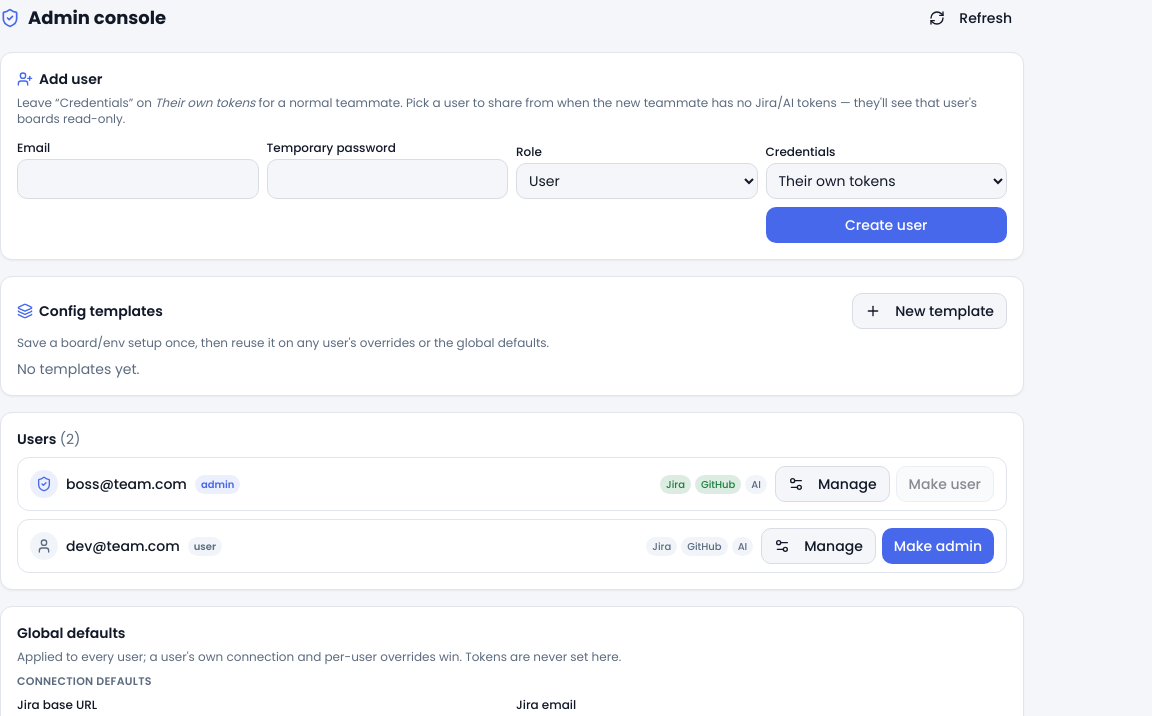
Admin user CRUD + shared credentials (v1.46) › creates a user that shares credentials from an eligible source
The image size is (1152, 716).
Expected: the text "boss@team.com" is shown, [66, 474, 187, 494]
Type "viewer@team.com" into the field labelled "Email" at (138, 179), box [17, 159, 258, 199]
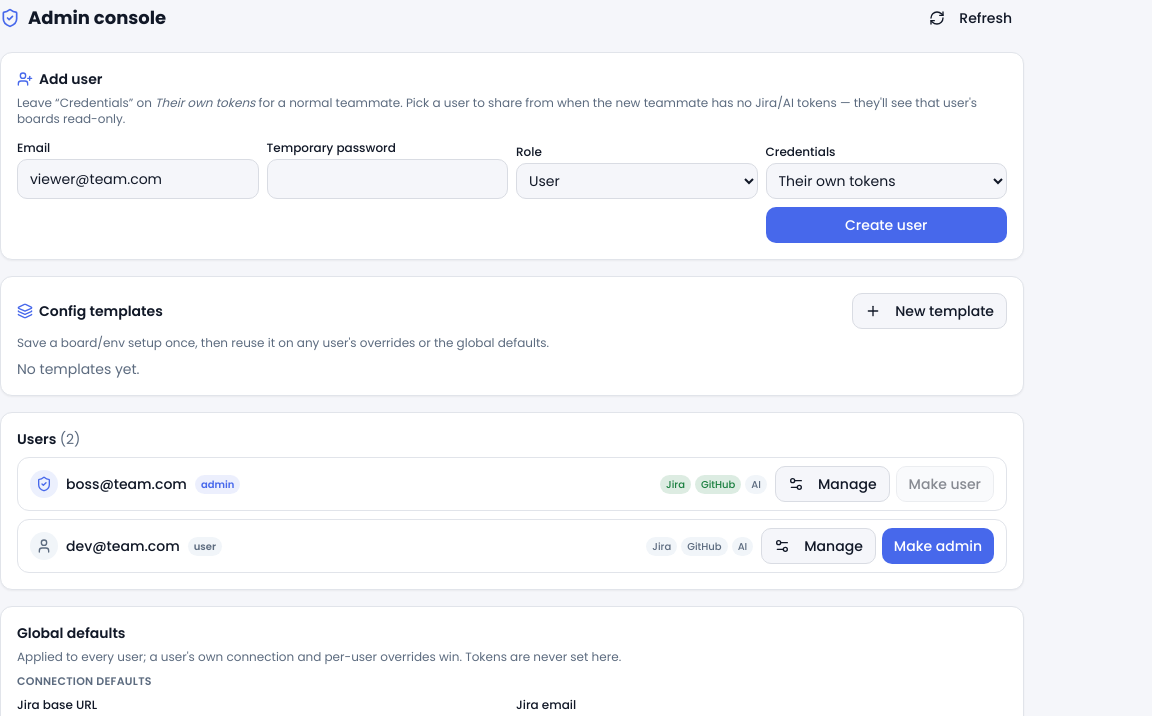
Type "password123" into the password field labelled "Temporary password" at (387, 179), box [266, 159, 508, 199]
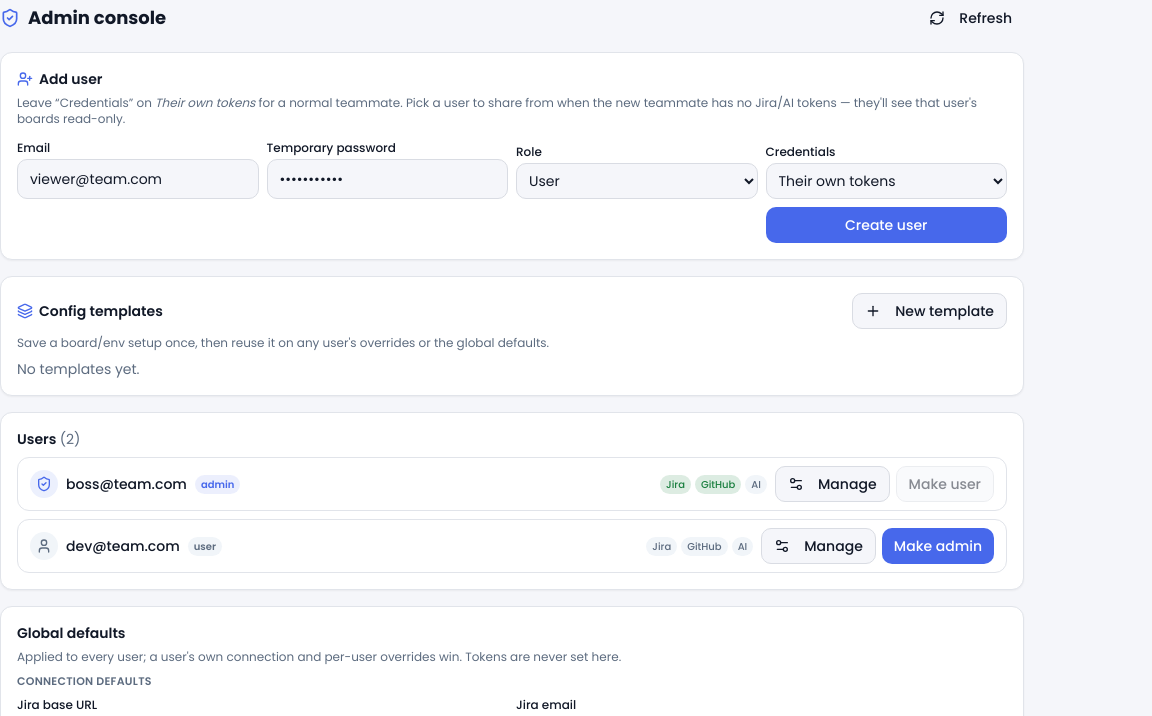
Select "Share from boss@team.com" in the dropdown labelled "Credentials" at (886, 181), box [766, 163, 1007, 199]
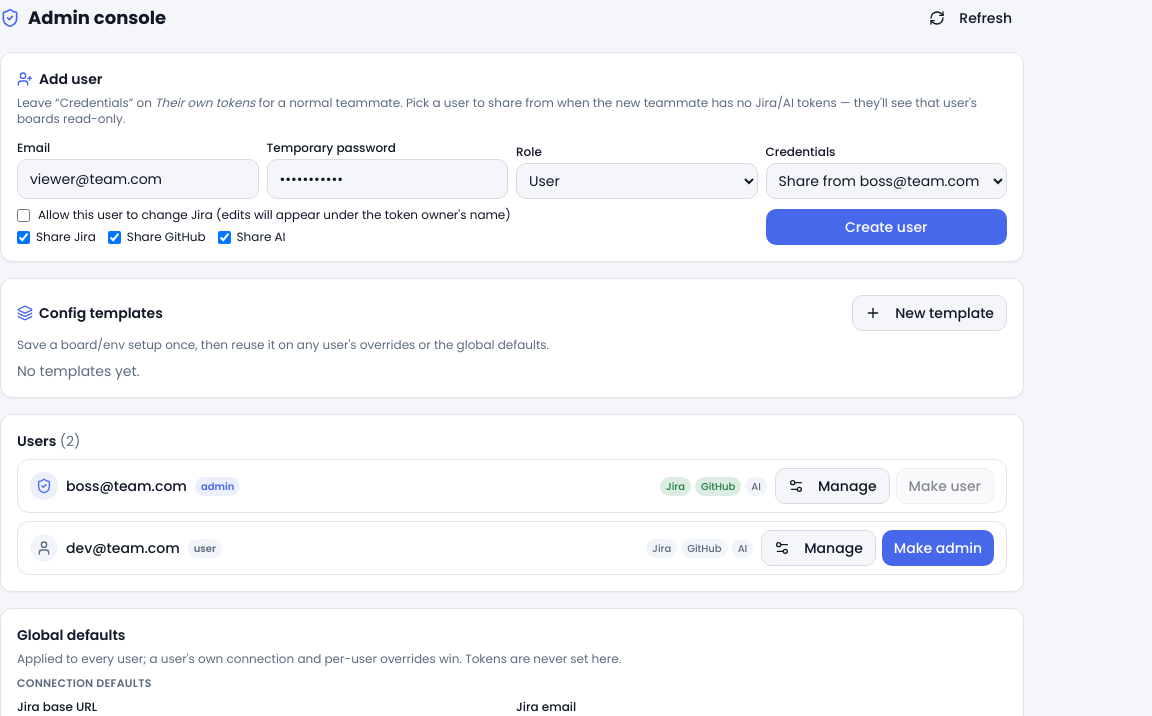
Click the button "Create user" at (886, 227), box [766, 209, 1007, 245]
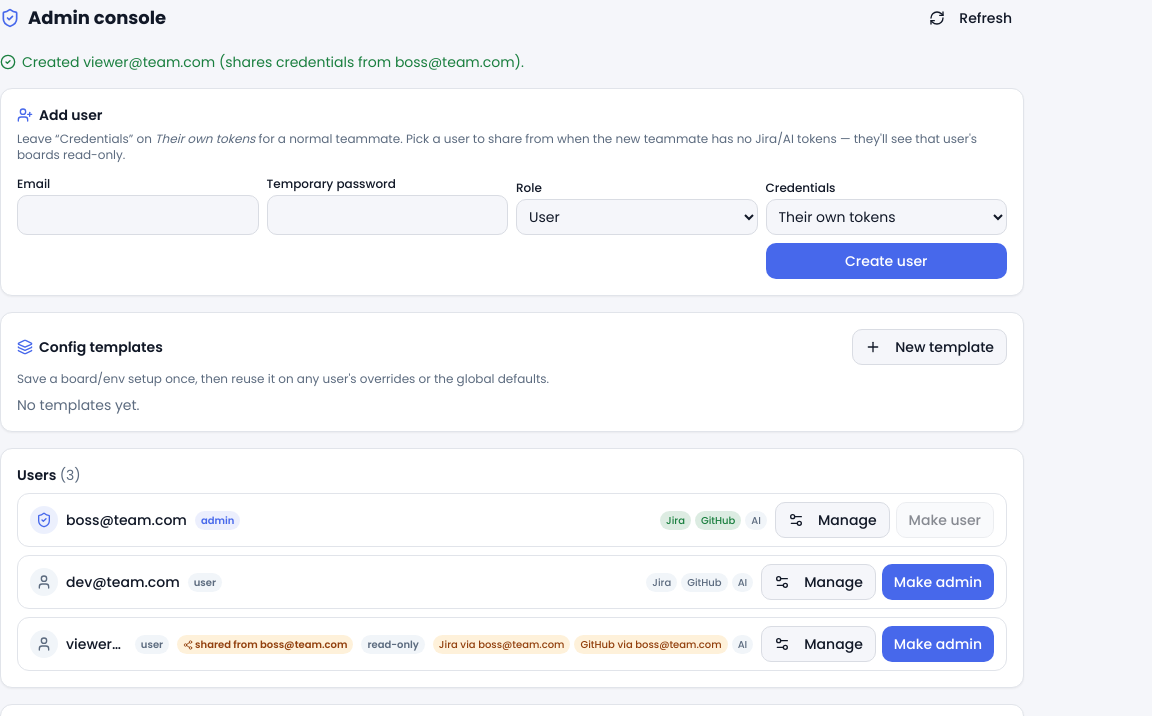
Now the text "shared from boss@team.com" is shown, box [177, 634, 353, 654]
